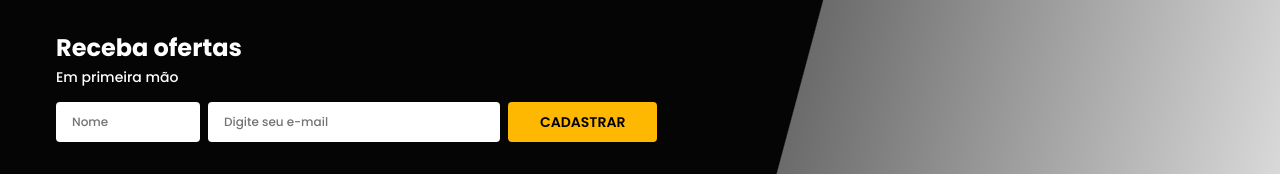
Test: NewsletterForm › confirma a inscrição quando nome e e-mail são válidos
In the field labelled "Nome": (128, 122) [56, 102, 200, 142], type "Ana"
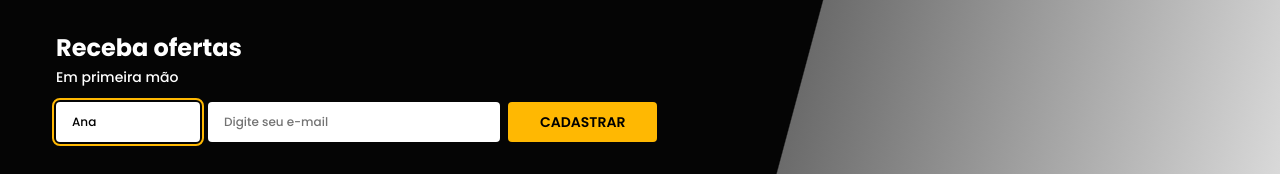
In the field labelled "e-mail": (354, 122) [208, 102, 500, 142], type "ana@exemplo.com"
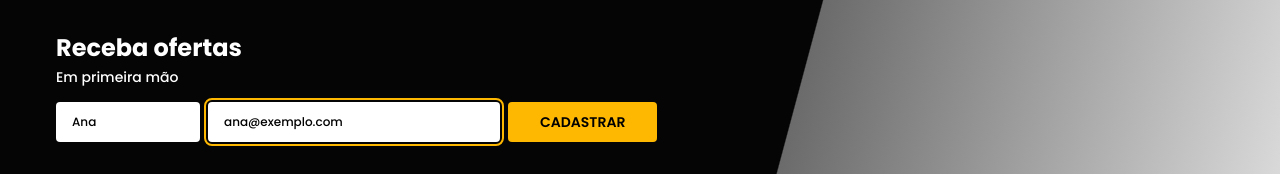
Click the button "Cadastrar": (583, 122) [508, 102, 657, 142]
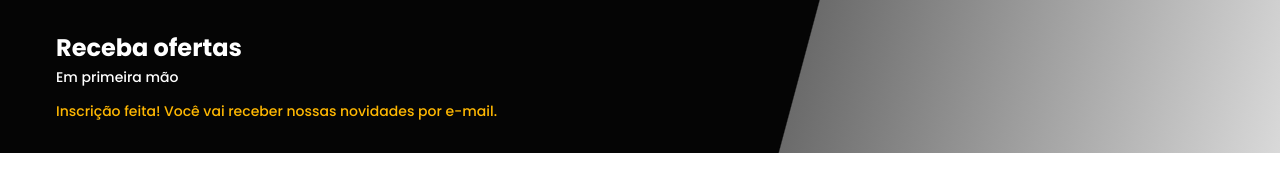
Now the text "Inscrição feita!" is shown, box [56, 101, 497, 121]
